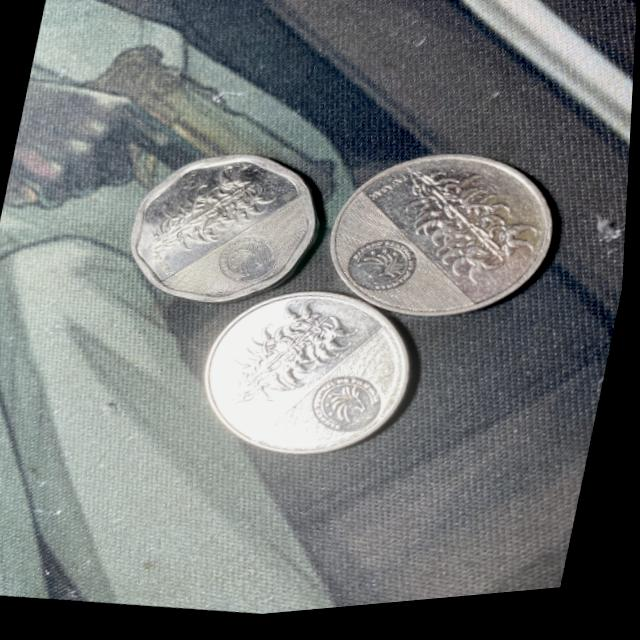5_New_Back: (384, 158, 546, 304), (223, 289, 359, 432), (139, 159, 272, 275)
